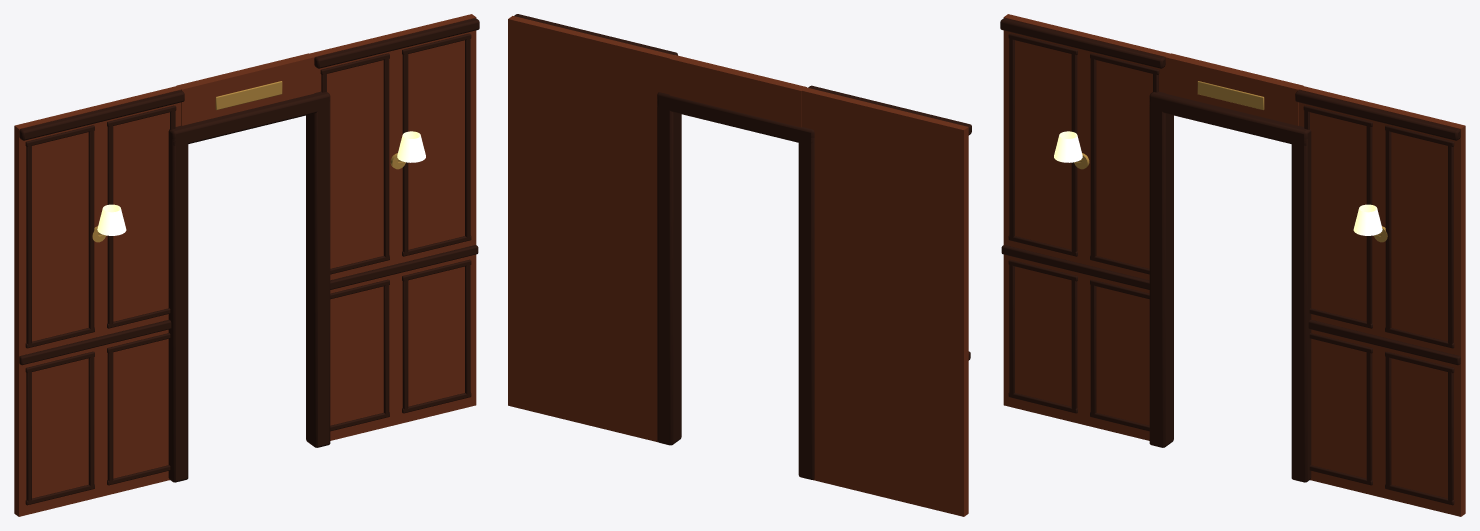
The model's file is dining_entry.glb.
The picture shows the model from 3 angles, left to right: view 1: azimuth 30°, elevation 25°; view 2: azimuth 150°, elevation 25°; view 3: azimuth 330°, elevation 25°; orthographic projection.
Visible parts, largest first — view 1: dining_entry; view 2: dining_entry; view 3: dining_entry.
Part boxes in pixels (x1=…): dining_entry: x1=14, y1=14, x2=479, y2=516; dining_entry: x1=508, y1=14, x2=971, y2=516; dining_entry: x1=1000, y1=14, x2=1465, y2=516.
Size of the model in its own units: 2.9 by 2.35 by 0.3.
